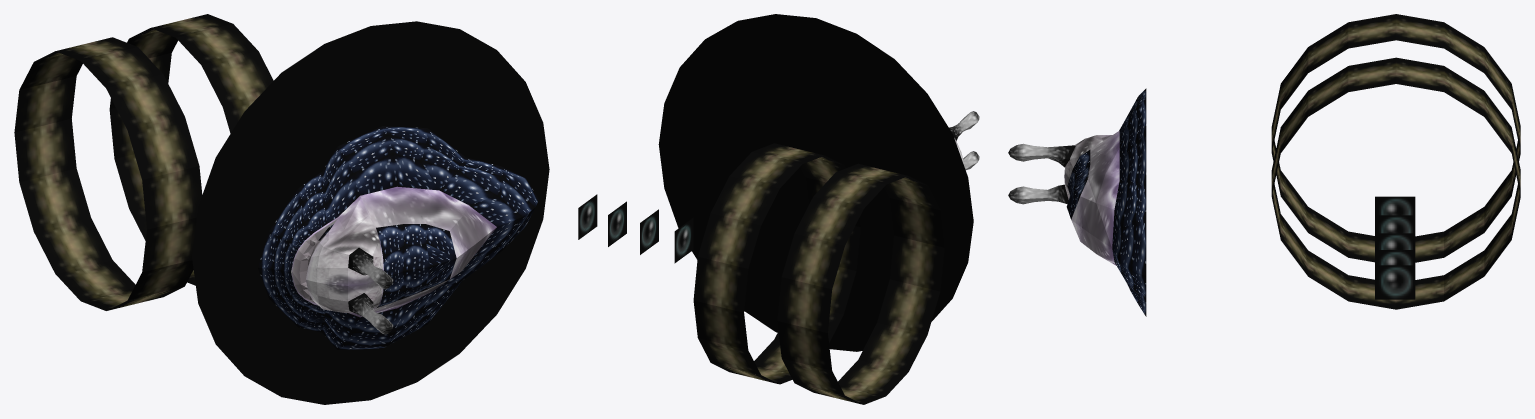
3 views of the same model, side by side, from view 1: azimuth 30°, elevation 25°; view 2: azimuth 150°, elevation 25°; view 3: azimuth 270°, elevation 25° (orthographic). The views are drawn at different scales.
Visible parts, largest first — view 1: M_0010_1, M_0010_0; view 2: M_0010_0, M_0010_1; view 3: M_0010_1, M_0010_0.
Boxes of the visible parts, left/top/right/bottom form: M_0010_1: left=14, top=14, right=538, bottom=349; M_0010_0: left=192, top=21, right=549, bottom=404; M_0010_0: left=658, top=14, right=973, bottom=351; M_0010_1: left=578, top=111, right=979, bottom=404; M_0010_1: left=1008, top=14, right=1520, bottom=316; M_0010_0: left=1064, top=135, right=1112, bottom=199.
Size of the model in its own units: 4.68 by 4.6 by 6.07.
2 materials, 2 textured.
